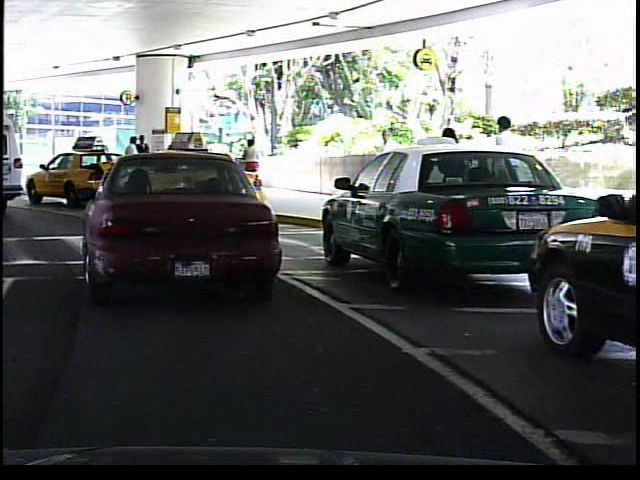person: (483, 110, 530, 229), (426, 117, 474, 224), (369, 119, 403, 202), (240, 135, 263, 192), (121, 133, 142, 189), (135, 129, 153, 187)
